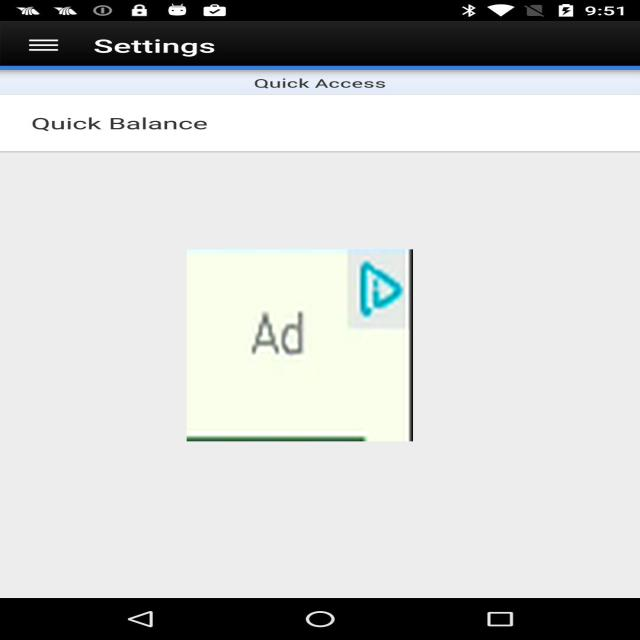sneaking: (187, 249, 413, 442)
